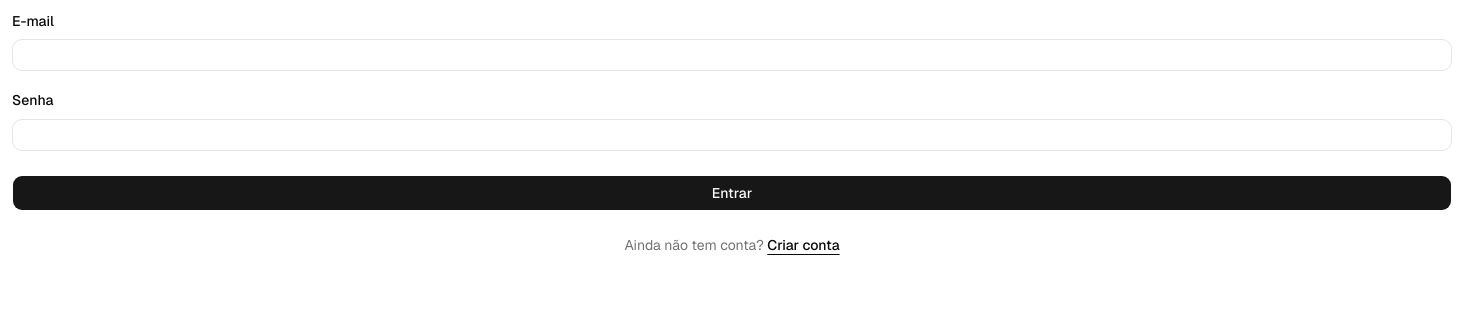
Test: LoginForm › valida antes de enviar e liga o erro ao campo
Click the button "Entrar" at (732, 192), box [12,174,1452,210]
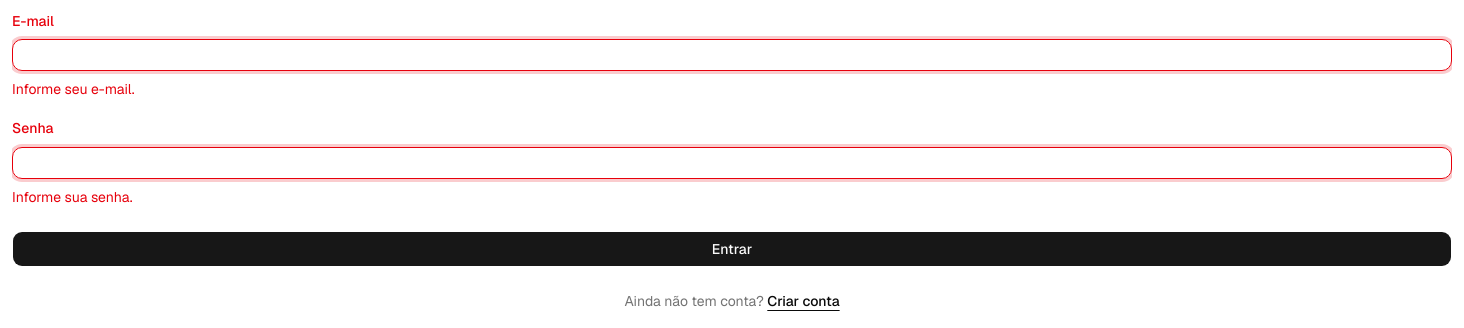
Result: the text "Informe sua senha." is shown at [12,188,133,206]
